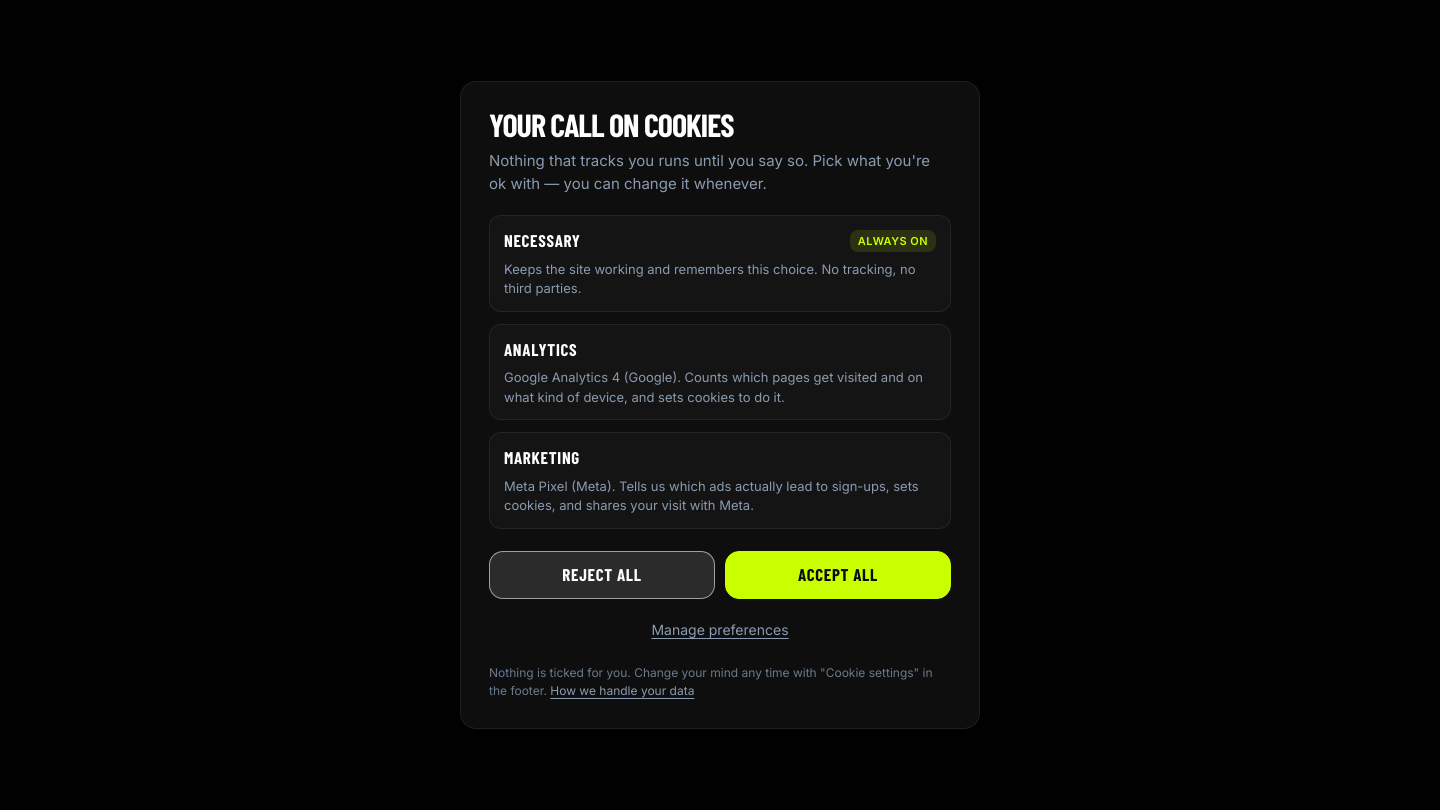
Test: ConsentBanner — the decision point › gives Accept and Reject the same size class and offers no pre-ticked boxes
The width and height of the screenshot is (1440, 810).
Click the button "Manage preferences". click: (720, 629)
box: [489,611,951,648]
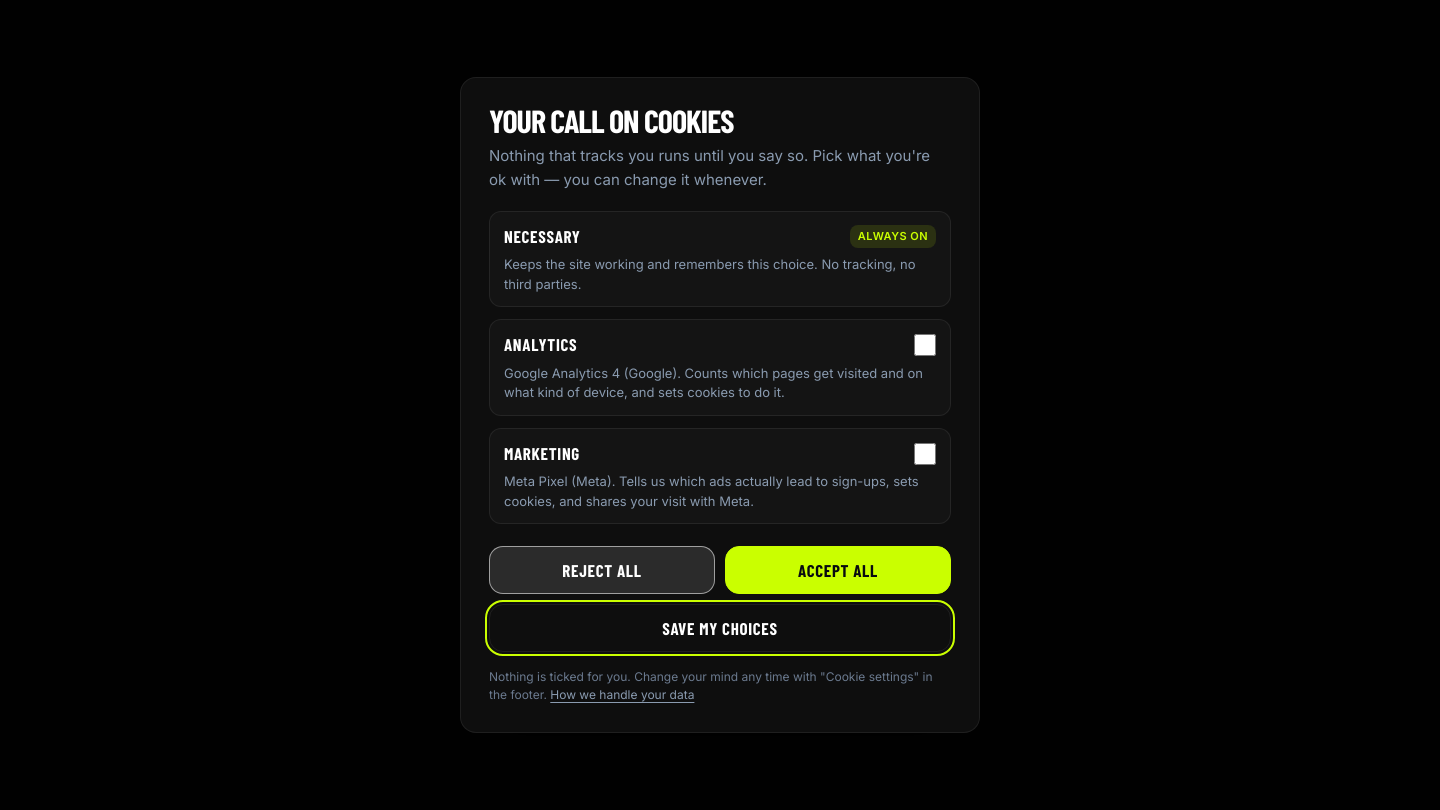
Check: the number of checkboxes is 2, box [914,334,936,356]; [914,443,936,465]
Check: the checkbox named "Analytics" is not checked, box [914,334,936,356]
Check: the checkbox named "Marketing" is not checked, box [914,443,936,465]
